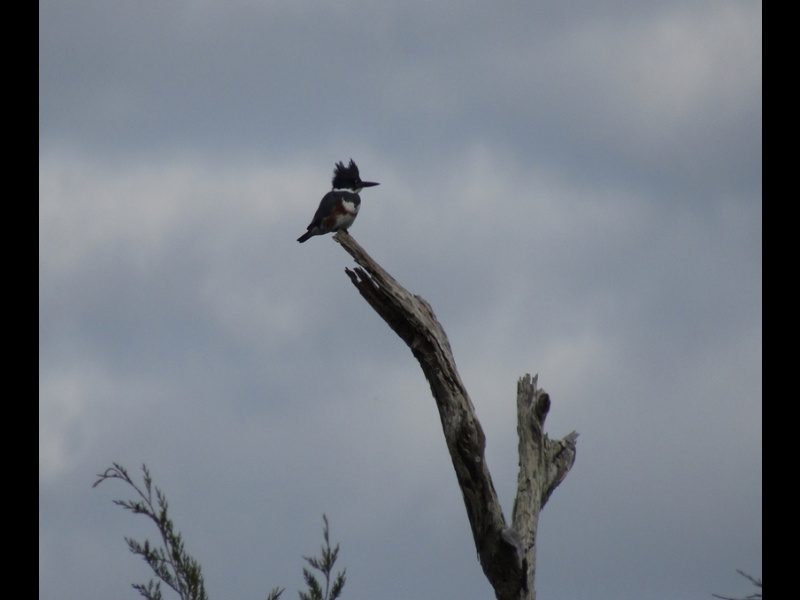kingfisher: (297, 158, 380, 244)
